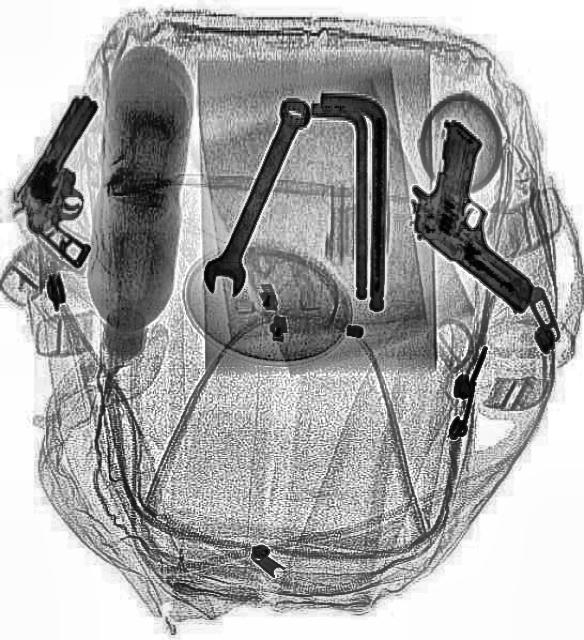Gun: (382, 124, 584, 314), (1, 88, 160, 266)
Wrench: (198, 91, 318, 303)
